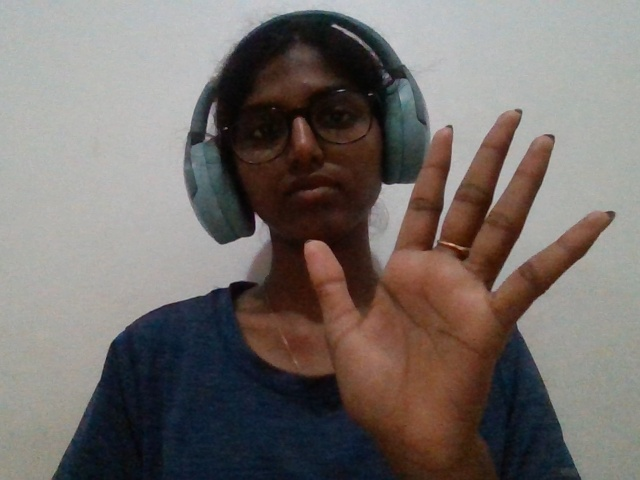Bye: (266, 83, 633, 480)
